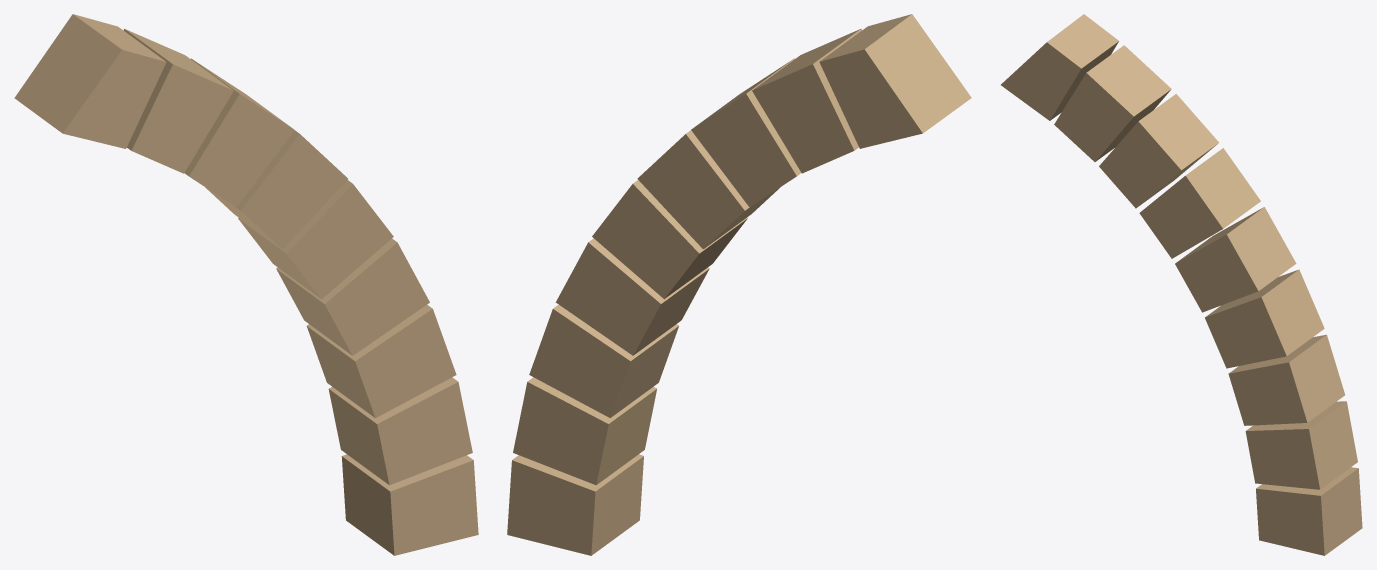
The model's file is arch_broken_b.glb.
The picture shows the model from 3 angles, left to right: view 1: azimuth 30°, elevation 25°; view 2: azimuth 150°, elevation 25°; view 3: azimuth 330°, elevation 25°; orthographic projection. The views are drawn at different scales.
Visible parts, largest first — view 1: arch_broken_b; view 2: arch_broken_b; view 3: arch_broken_b.
Part boxes in pixels (x1,y1,x2,y2): arch_broken_b: [14, 14, 478, 555]; arch_broken_b: [507, 14, 971, 555]; arch_broken_b: [1001, 14, 1362, 555].
Size of the model in its own units: 4.45 by 5.86 by 0.9.
